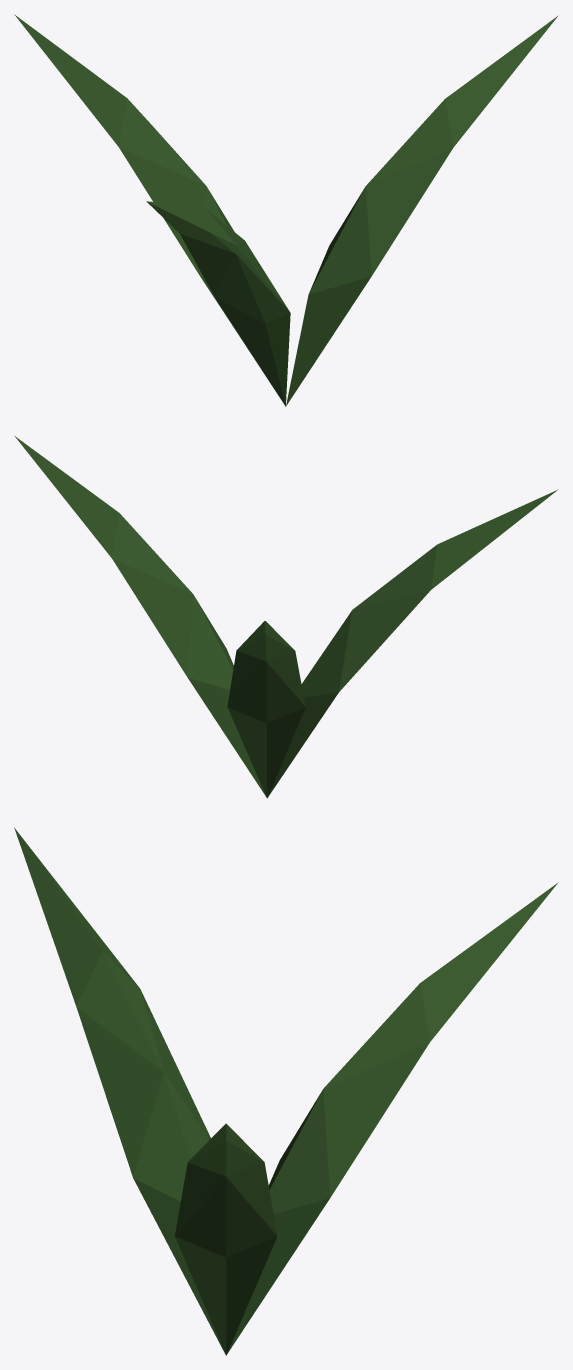
The model's file is Grass_03.glb.
3 views of the same model, one above another, from view 1: azimuth 30°, elevation 25°; view 2: azimuth 150°, elevation 25°; view 3: azimuth 270°, elevation 25° (orthographic). The views are drawn at different scales.
Parts seen in each view (by area): view 1: Grass_03; view 2: Grass_03; view 3: Grass_03.
Boxes of the visible parts, x1=… form: Grass_03: x1=14, y1=14, x2=558, y2=406; Grass_03: x1=15, y1=436, x2=558, y2=798; Grass_03: x1=14, y1=827, x2=558, y2=1355.
Bounding box in the file's own units: 0.6995 × 0.4343 × 0.544.
1 material, 1 textured.
